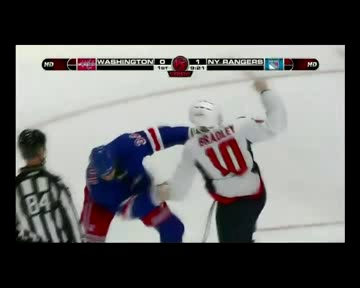normal: (74, 74, 279, 241)
